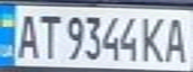3: (81, 11, 106, 61)
4: (100, 12, 124, 62), (118, 12, 142, 62)
9: (60, 11, 84, 61)
A: (160, 13, 193, 64), (12, 10, 42, 60)
K: (139, 12, 169, 63)
T: (36, 10, 60, 61)
